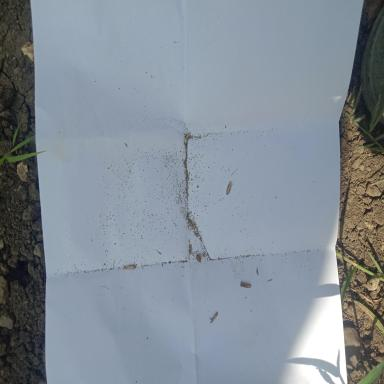pbw: (183, 132, 191, 146), (210, 312, 218, 324), (226, 181, 232, 195), (240, 281, 251, 288), (123, 265, 136, 270)
